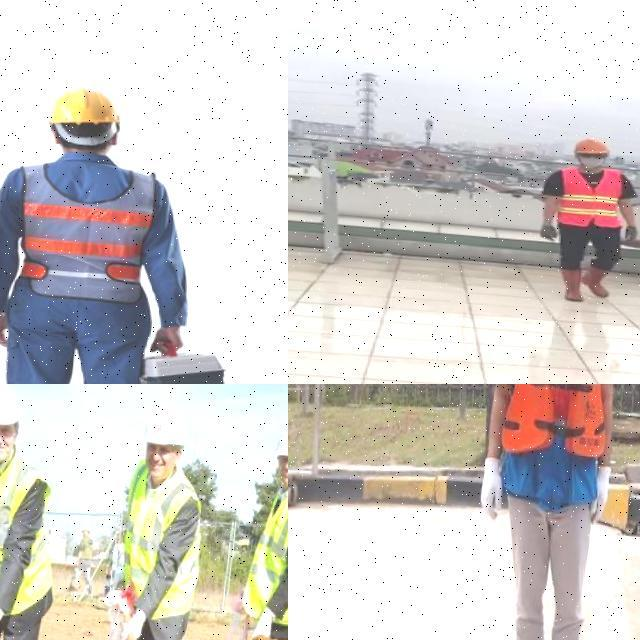boots: (539, 222, 560, 242), (622, 225, 640, 246)
helmet: (39, 83, 134, 163), (129, 398, 198, 461), (0, 384, 34, 442), (262, 414, 288, 477), (573, 134, 610, 155)
vest: (2, 149, 168, 315), (102, 445, 223, 640), (487, 384, 616, 508), (0, 431, 75, 640), (228, 471, 288, 640), (556, 166, 622, 229)
